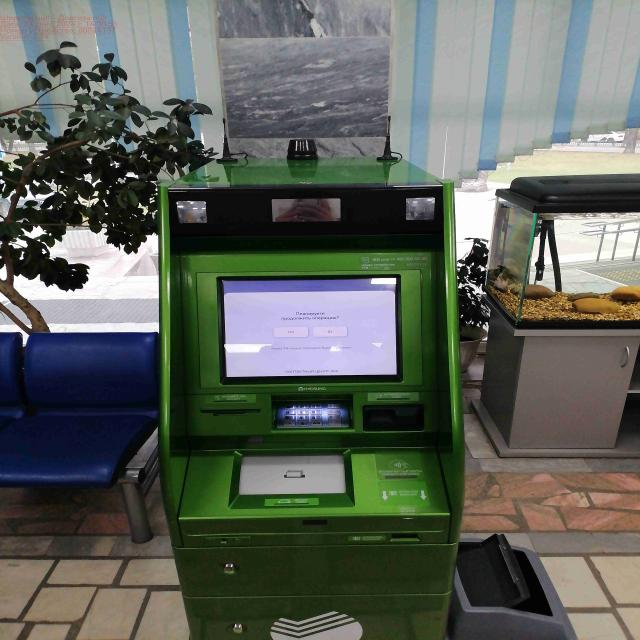bank: (155, 155, 464, 640)
